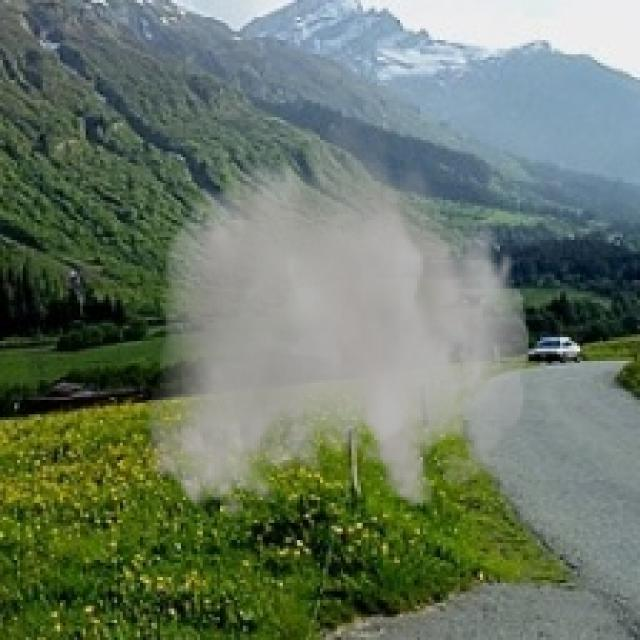smoke: (146, 106, 528, 520)
